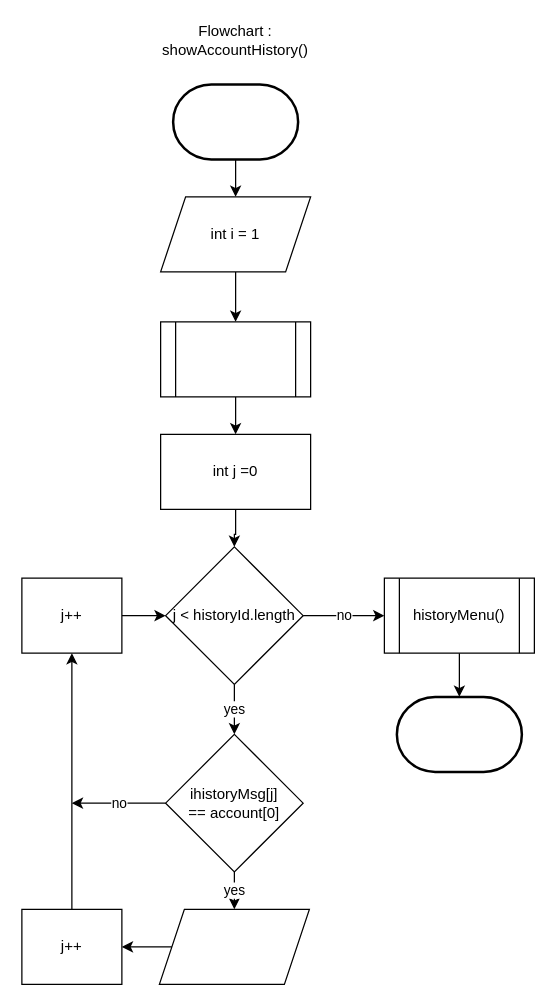
The diagram is 556 pixels wide and 1006 high, and some of its shapes have lost their labels. Each missing label, with the centre of its shape:
account = getAccount(): [235,359]
output historyMsg[j]: [233,946]
return: [458,733]
showAccount History(): [235,121]
